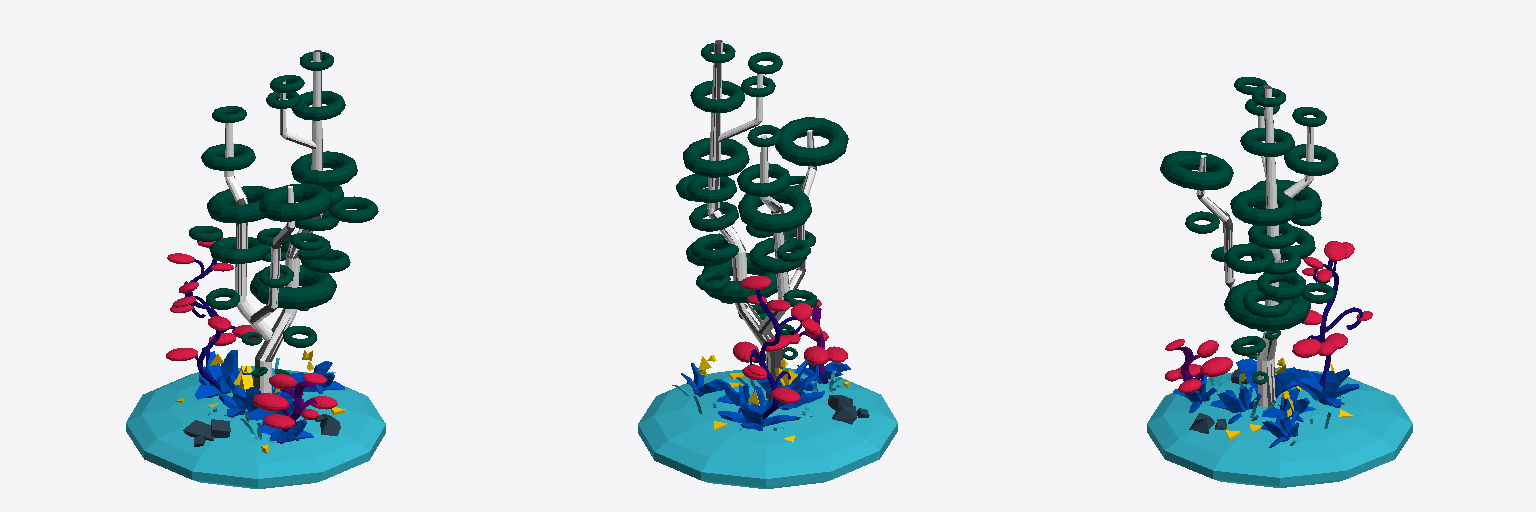
The picture shows the model from 3 angles: view 1: azimuth 30°, elevation 25°; view 2: azimuth 150°, elevation 25°; view 3: azimuth 270°, elevation 25°; orthographic projection.
Parts seen in each view (by area): view 1: group[number redacted], group[number redacted], group[number redacted], group[number redacted], group[number redacted], group[number redacted], group[number redacted], group[number redacted], group[number redacted], group[number redacted], group[number redacted], group[number redacted] (+9 smaller); view 2: group[number redacted], group[number redacted], group[number redacted], group[number redacted], group[number redacted], group[number redacted], group[number redacted], group[number redacted], group[number redacted], group[number redacted], group[number redacted], group[number redacted] (+12 smaller); view 3: group[number redacted], group[number redacted], group[number redacted], group[number redacted], group[number redacted], group[number redacted], group[number redacted], group[number redacted], group[number redacted], group[number redacted], group[number redacted], group[number redacted] (+12 smaller).
Part boxes in pixels (left/top/right/bottom): group[number redacted]: left=126, top=366, right=385, bottom=488; group[number redacted]: left=254, top=50, right=322, bottom=393; group[number redacted]: left=253, top=373, right=337, bottom=443; group[number redacted]: left=259, top=183, right=331, bottom=221; group[number redacted]: left=250, top=265, right=336, bottom=308; group[number redacted]: left=224, top=123, right=272, bottom=340; group[number redacted]: left=291, top=151, right=357, bottom=186; group[number redacted]: left=207, top=186, right=272, bottom=223; group[number redacted]: left=195, top=350, right=245, bottom=399; group[number redacted]: left=250, top=186, right=294, bottom=323; group[number redacted]: left=210, top=237, right=267, bottom=263; group[number redacted]: left=201, top=144, right=255, bottom=170; group[number redacted]: left=638, top=368, right=897, bottom=488; group[number redacted]: left=707, top=40, right=782, bottom=400; group[number redacted]: left=775, top=117, right=848, bottom=166; group[number redacted]: left=738, top=186, right=811, bottom=233; group[number redacted]: left=683, top=138, right=749, bottom=177; group[number redacted]: left=718, top=384, right=800, bottom=430; group[number redacted]: left=759, top=135, right=789, bottom=334; group[number redacted]: left=702, top=253, right=777, bottom=302; group[number redacted]: left=780, top=299, right=847, bottom=383; group[number redacted]: left=737, top=163, right=791, bottom=196; group[number redacted]: left=690, top=80, right=744, bottom=112; group[number redacted]: left=749, top=237, right=806, bottom=273; group[number redacted]: left=1147, top=367, right=1412, bottom=487; group[number redacted]: left=1257, top=85, right=1280, bottom=406; group[number redacted]: left=1160, top=151, right=1233, bottom=190; group[number redacted]: left=1224, top=280, right=1310, bottom=330; group[number redacted]: left=1165, top=339, right=1232, bottom=393; group[number redacted]: left=1230, top=189, right=1296, bottom=225; group[number redacted]: left=1294, top=369, right=1359, bottom=407; group[number redacted]: left=1284, top=144, right=1338, bottom=175; group[number redacted]: left=1240, top=128, right=1294, bottom=156; group[number redacted]: left=1224, top=243, right=1274, bottom=273; group[number redacted]: left=1196, top=155, right=1264, bottom=304; group[number redacted]: left=1257, top=272, right=1306, bottom=299.
Bounding box in the file's own units: 1.82 × 3.07 × 1.88.